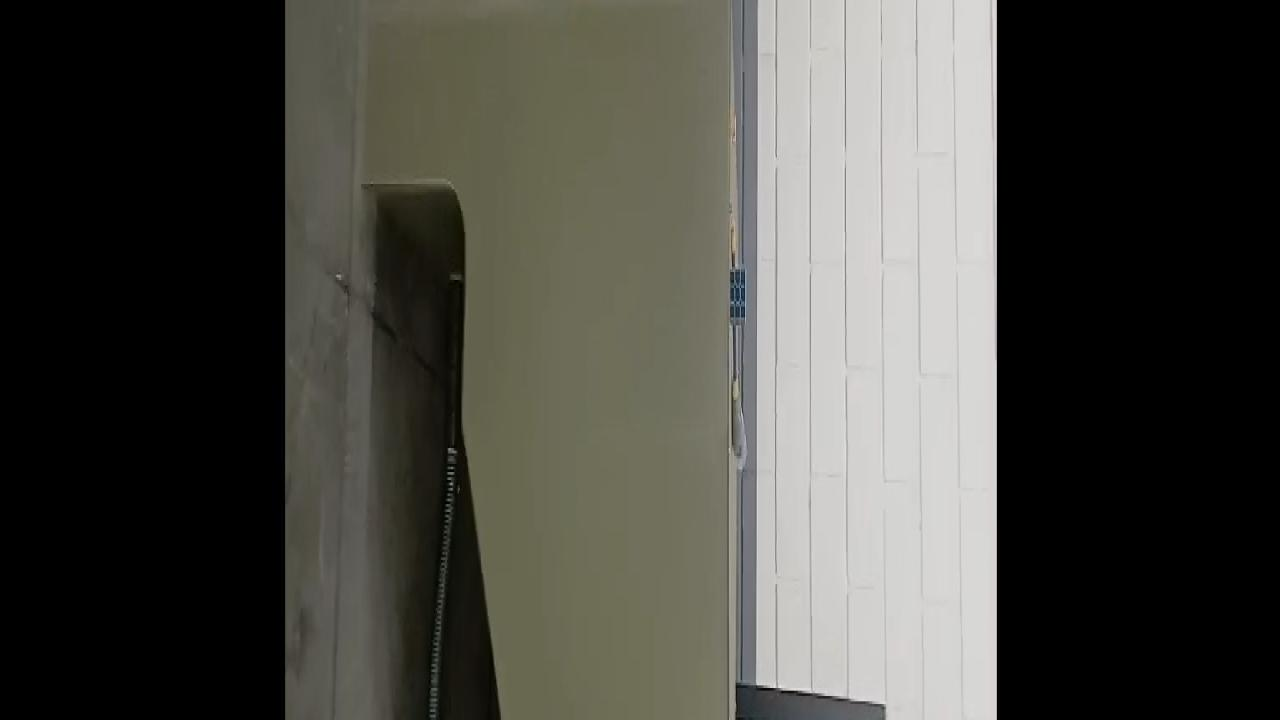Cube: (726, 264, 747, 330)
